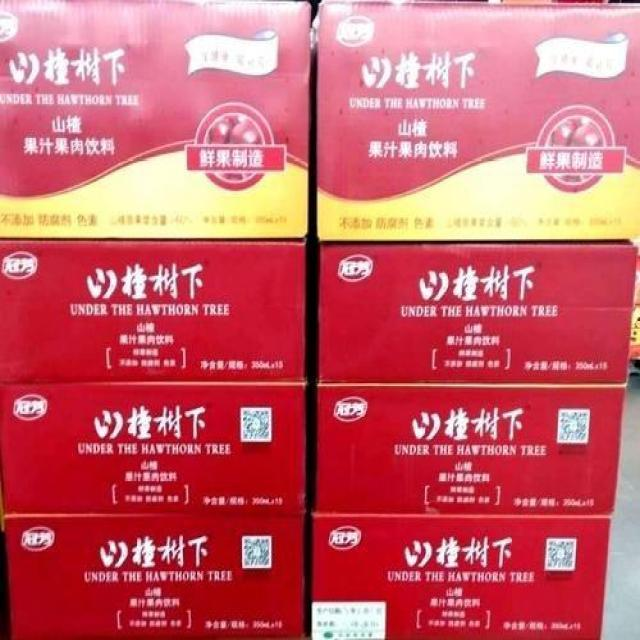box: (310, 0, 640, 240), (0, 0, 310, 244), (0, 232, 316, 392), (311, 239, 640, 391), (309, 375, 631, 513), (0, 384, 313, 522), (0, 511, 315, 640), (309, 507, 610, 640)
